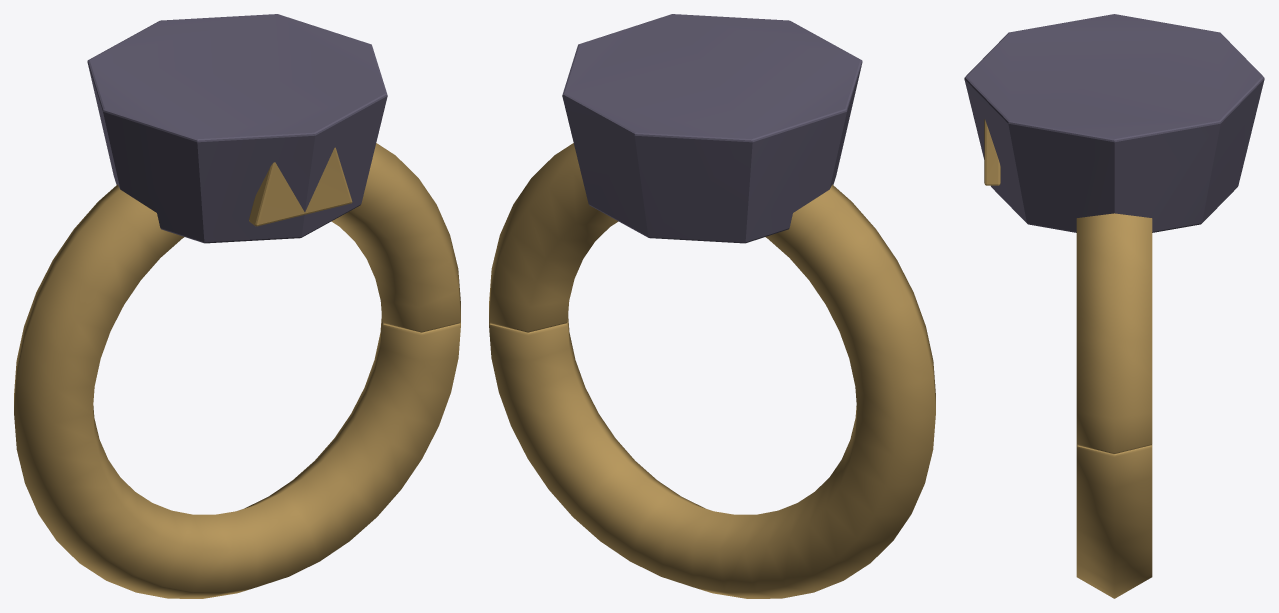
Rendered from item_077.glb.
3 views of the same model, side by side, from view 1: azimuth 30°, elevation 25°; view 2: azimuth 150°, elevation 25°; view 3: azimuth 270°, elevation 25° (orthographic). The views are drawn at different scales.
Parts seen in each view (by area): view 1: Item_077_funeral_signet; view 2: Item_077_funeral_signet; view 3: Item_077_funeral_signet.
Boxes of the visible parts, x1=… form: Item_077_funeral_signet: x1=14, y1=14, x2=460, y2=598; Item_077_funeral_signet: x1=489, y1=14, x2=935, y2=598; Item_077_funeral_signet: x1=964, y1=14, x2=1264, y2=598.
Size of the model in its own units: 0.3639 by 0.402 by 0.2192.
